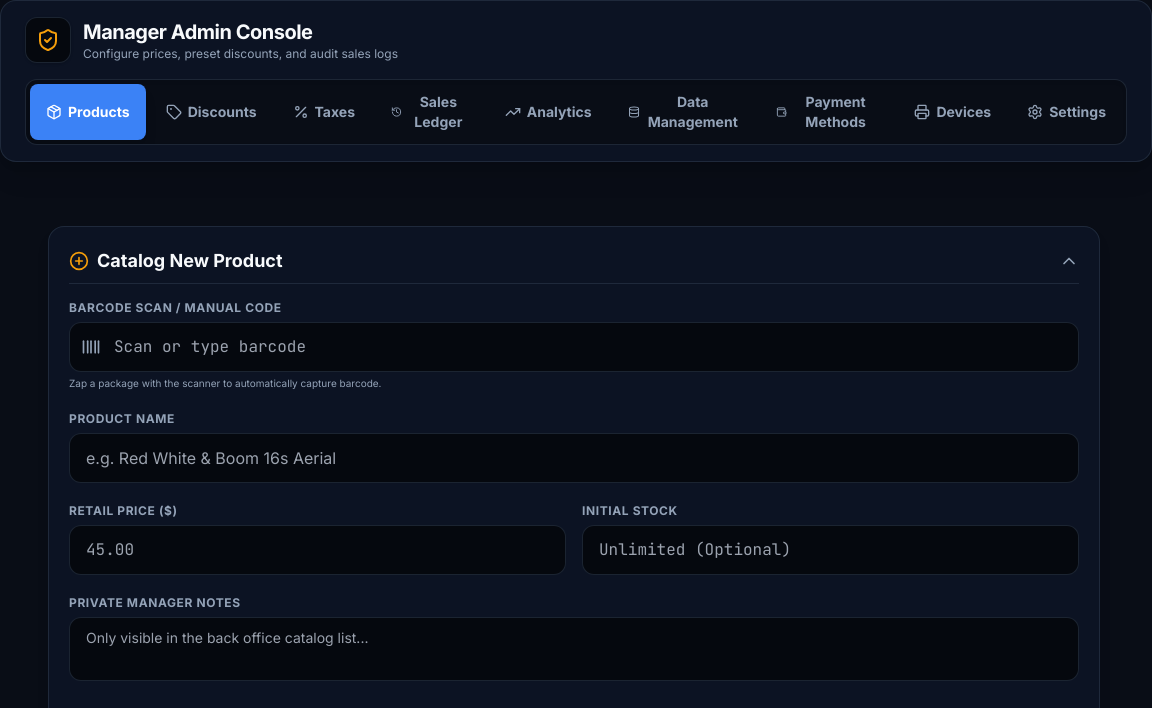
Test: AdminView Component › navigates sales tab and expands detailed nested transaction rows
Expected: the heading "Manager Admin Console" is shown, [83,18,312,46]
// Click Sales Ledger tab
Click the button "Sales Ledger".
click(430, 112)  # box [375,84,485,140]
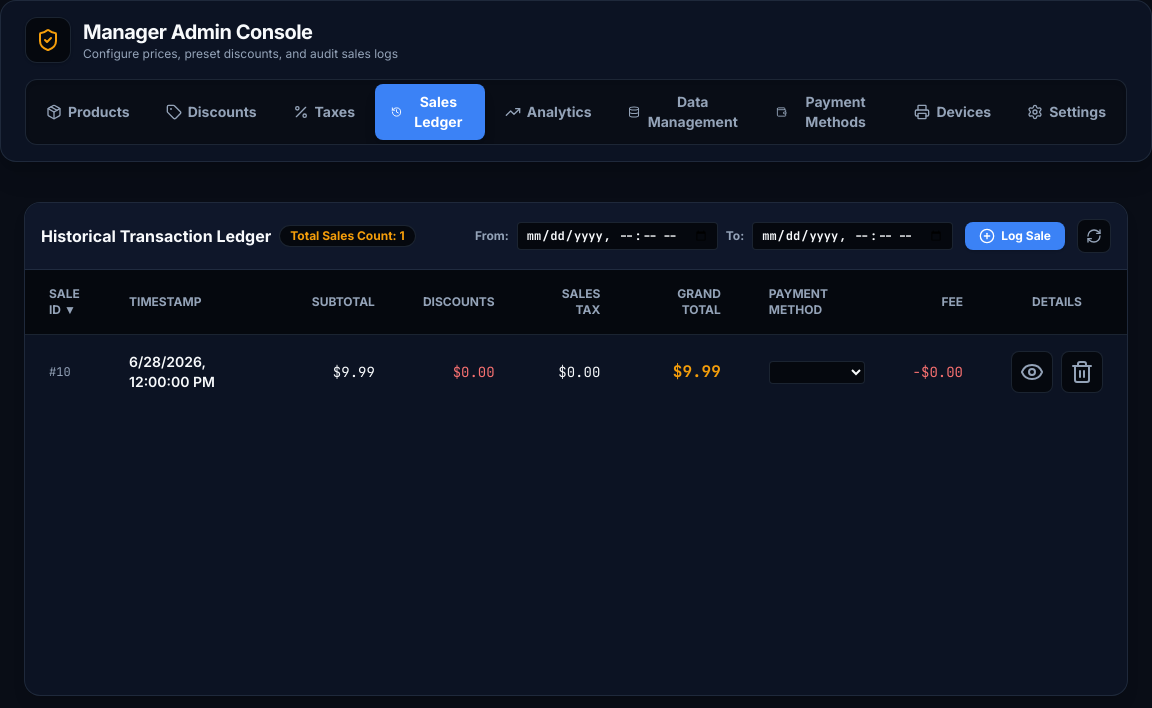
Expected: the column heading "Sale ID ▼" is shown, [25,270,105,334]
Expected: the text "#10" is shown, [25,334,105,409]
Expected: the 1st text "$9.99" is shown, [288,334,399,409]
// Toggle expansion button
Click the button titled "Inspect sold items".
click(1032, 372)  # box [1011,351,1053,393]
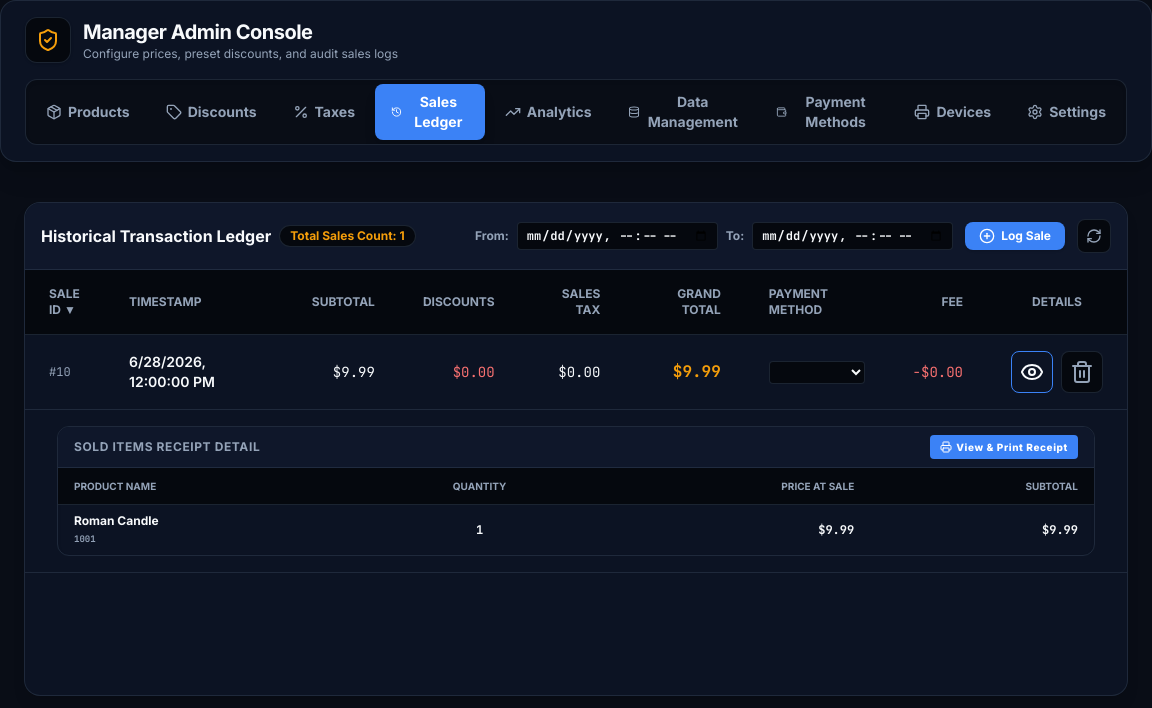
Expected: the text "Sold Items Receipt Detail" is shown, [74,439,260,455]
Expected: the text "Roman Candle" is shown, [74,513,159,528]
Expected: the text "1" is shown, [366,504,593,555]
